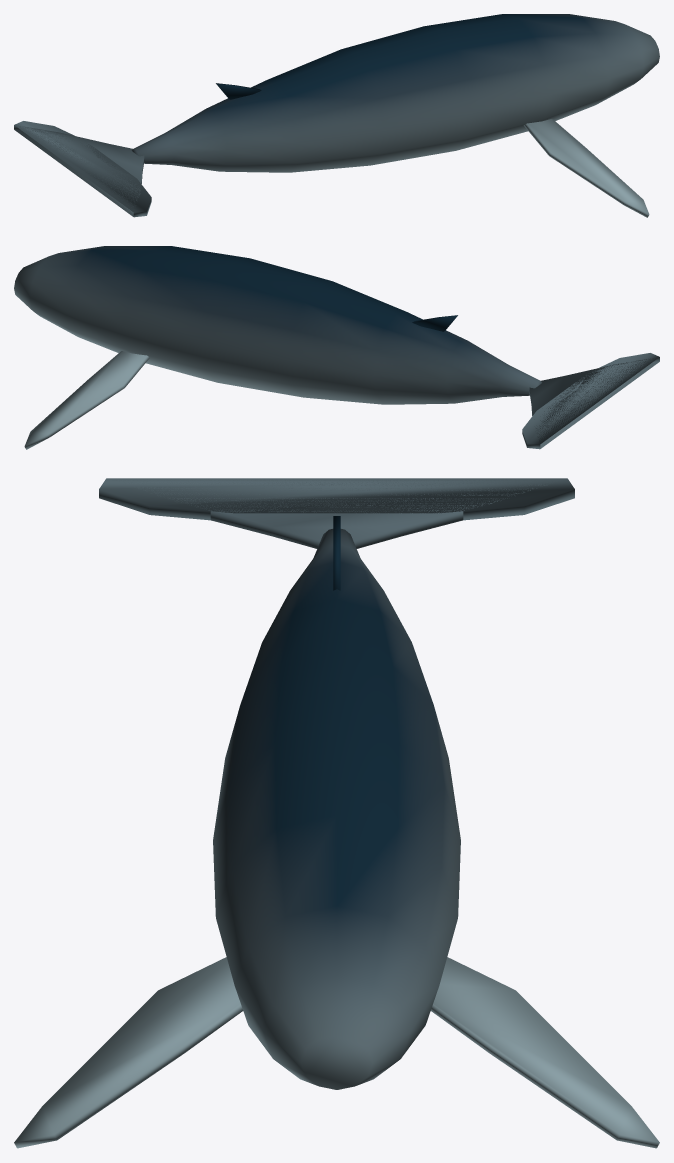
Rendered from whale.glb.
3 views of the same model, one above another, from view 1: azimuth 30°, elevation 25°; view 2: azimuth 150°, elevation 25°; view 3: azimuth 270°, elevation 25° (orthographic). The views are drawn at different scales.
Parts seen in each view (by area): view 1: Whale; view 2: Whale; view 3: Whale.
Boxes of the visible parts, x1,y1,x2,y2 form: Whale: (14, 14, 659, 217); Whale: (14, 246, 659, 449); Whale: (14, 478, 659, 1148).
Bounding box in the file's own units: 17.8 × 4.67 × 8.96.
